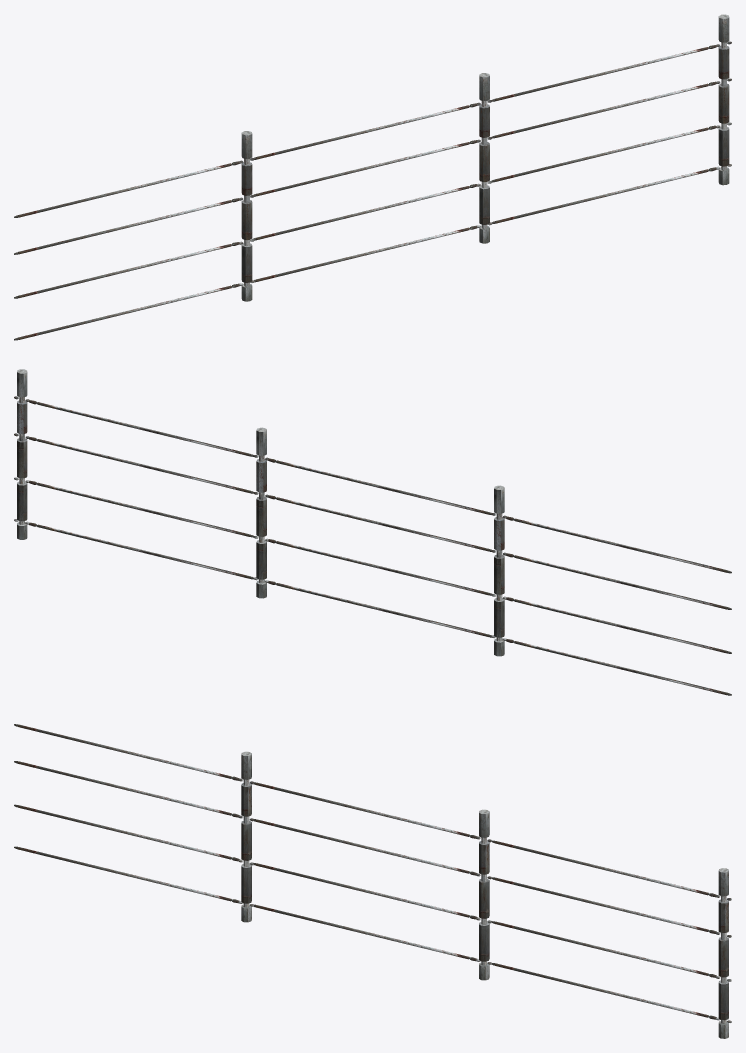
The model's file is SM_T_Electric_Fence.fbx.
The picture shows the model from 3 angles, top to bottom: view 1: azimuth 30°, elevation 25°; view 2: azimuth 150°, elevation 25°; view 3: azimuth 330°, elevation 25°; orthographic projection.
Parts seen in each view (by area): view 1: pCylinder7, pCylinder4, pCylinder19, pCylinder16, pCylinder15, pCylinder17, pCylinder14, pCylinder13, pCylinder18, pCylinder11, pCylinder12, pCylinder8 (+3 smaller); view 2: pCylinder4, pCylinder19, pCylinder7, pCylinder15, pCylinder16, pCylinder17, pCylinder14, pCylinder18, pCylinder6, pCylinder10, pCylinder11, pCylinder12 (+3 smaller); view 3: pCylinder4, pCylinder19, pCylinder7, pCylinder12, pCylinder13, pCylinder11, pCylinder17, pCylinder18, pCylinder14, pCylinder15, pCylinder16, pCylinder6 (+3 smaller).
Boxes of the visible parts, x1=… form: pCylinder7: x1=718, y1=14, x2=729, y2=185; pCylinder4: x1=241, y1=131, x2=252, y2=301; pCylinder19: x1=479, y1=73, x2=489, y2=243; pCylinder16: x1=14, y1=161, x2=239, y2=217; pCylinder15: x1=14, y1=198, x2=239, y2=254; pCylinder17: x1=14, y1=283, x2=239, y2=340; pCylinder14: x1=491, y1=125, x2=716, y2=182; pCylinder13: x1=492, y1=167, x2=716, y2=223; pCylinder18: x1=14, y1=242, x2=239, y2=298; pCylinder11: x1=492, y1=81, x2=716, y2=138; pCylinder12: x1=492, y1=45, x2=716, y2=101; pCylinder8: x1=254, y1=103, x2=477, y2=159; pCylinder4: x1=494, y1=485, x2=504, y2=656; pCylinder19: x1=256, y1=427, x2=266, y2=598; pCylinder7: x1=17, y1=369, x2=27, y2=539; pCylinder15: x1=506, y1=553, x2=731, y2=609; pCylinder16: x1=506, y1=516, x2=731, y2=573; pCylinder17: x1=506, y1=639, x2=731, y2=695; pCylinder14: x1=29, y1=480, x2=254, y2=537; pCylinder18: x1=506, y1=597, x2=731, y2=653; pCylinder6: x1=268, y1=495, x2=492, y2=551; pCylinder10: x1=268, y1=539, x2=492, y2=595; pCylinder11: x1=29, y1=437, x2=254, y2=493; pCylinder12: x1=29, y1=400, x2=253, y2=456; pCylinder4: x1=241, y1=751, x2=251, y2=922; pCylinder19: x1=479, y1=809, x2=489, y2=980; pCylinder7: x1=718, y1=868, x2=728, y2=1038; pCylinder12: x1=491, y1=840, x2=716, y2=897; pCylinder13: x1=491, y1=963, x2=716, y2=1019; pCylinder11: x1=491, y1=877, x2=716, y2=933; pCylinder17: x1=14, y1=846, x2=239, y2=903; pCylinder18: x1=14, y1=804, x2=239, y2=861; pCylinder14: x1=491, y1=921, x2=716, y2=977; pCylinder15: x1=14, y1=761, x2=239, y2=817; pCylinder16: x1=14, y1=724, x2=239, y2=780; pCylinder6: x1=253, y1=819, x2=477, y2=875.
Size of the model in its own units: 544 by 121 by 7.23.
Materials: 1 (1 with a texture image).
